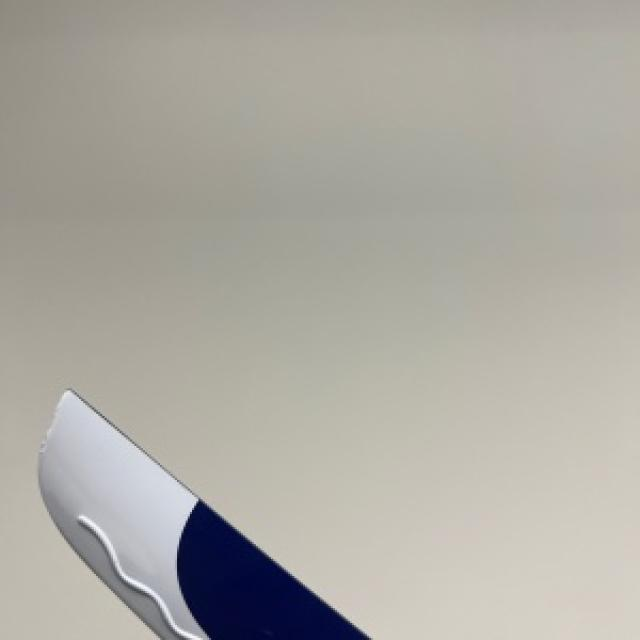healthy: (36, 390, 365, 638)
